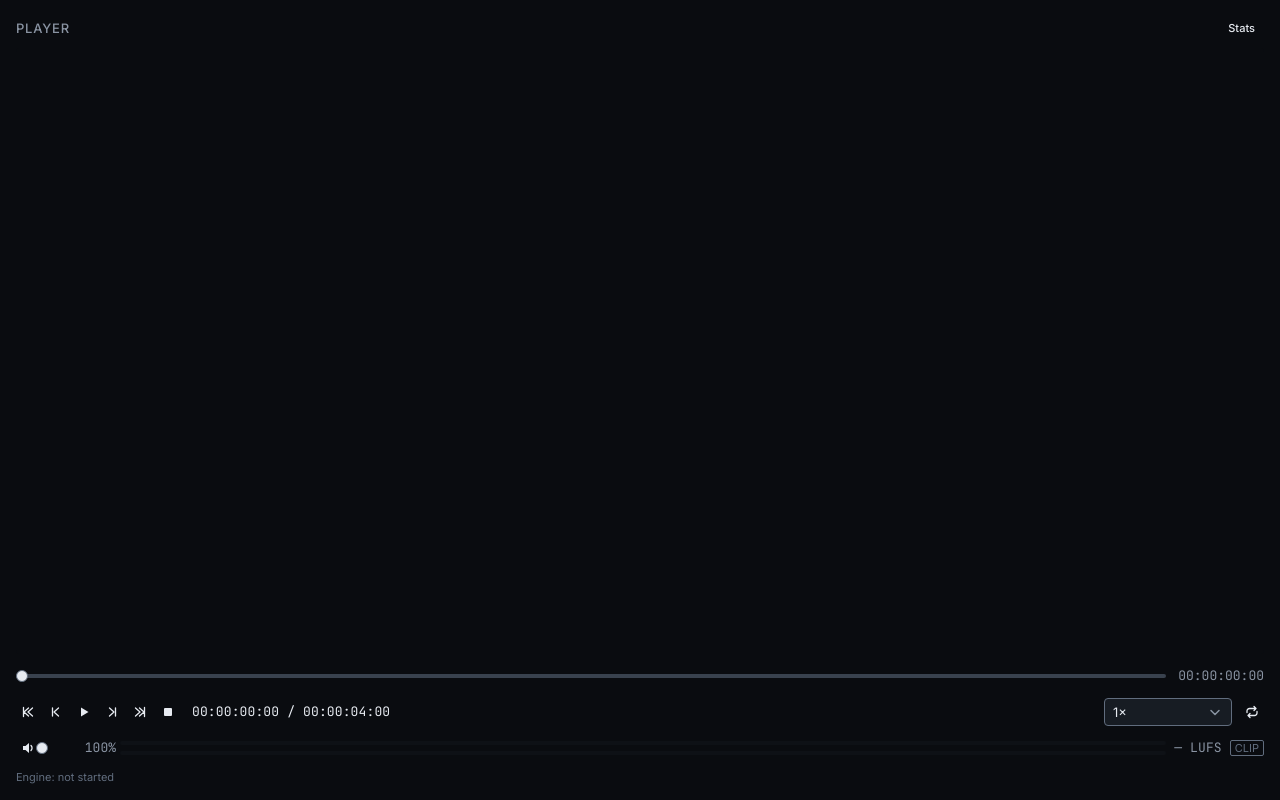
Test case: PlayerZone › shows the engine's decode statistics on request
This screenshot has width=1280, height=800.
What coordinates should you click on to do the following:
click the button "Stats"
I would click on:
 (1242, 28)
Its box is [1219,16,1264,40].
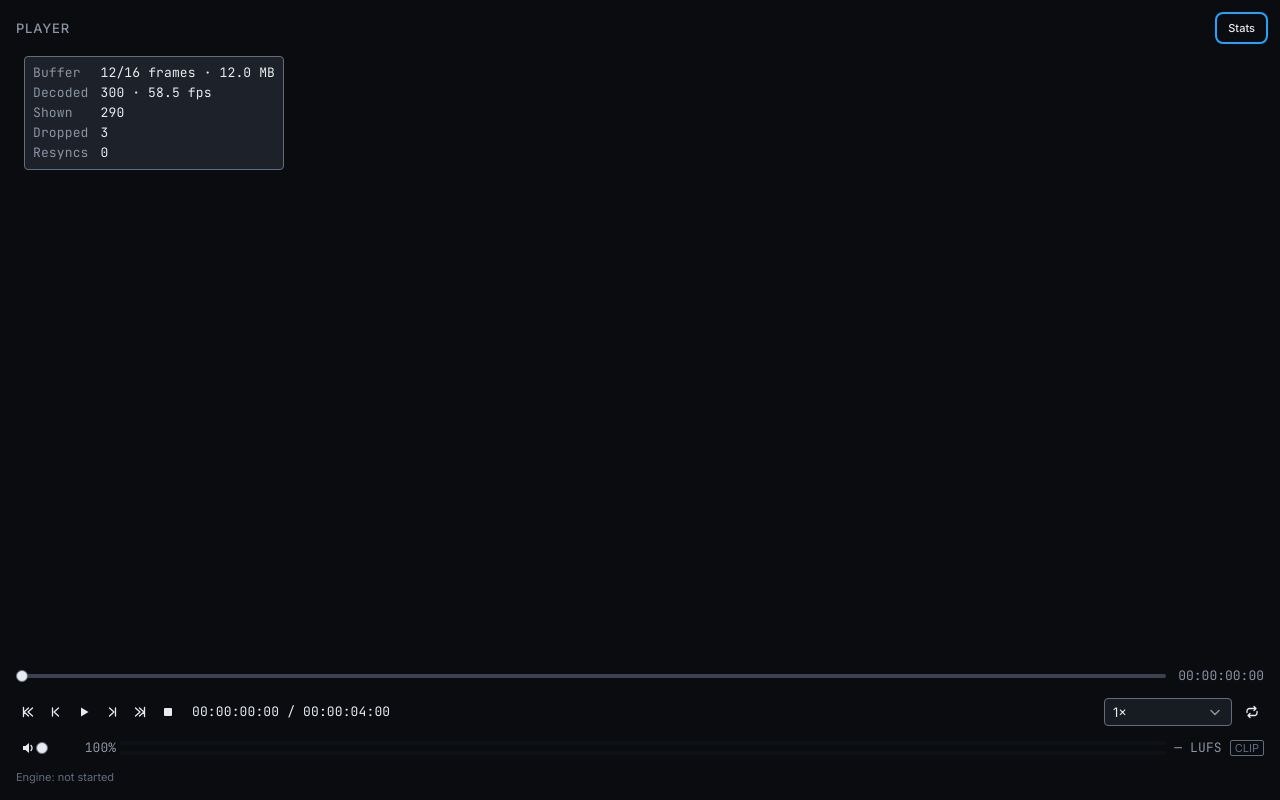
Expected: the element with test id "decode-stats" shows "12/16 frames · 12.0 MB", [24,56,284,170]
Expected: the element with test id "decode-stats" shows "58.5 fps", [24,56,284,170]
